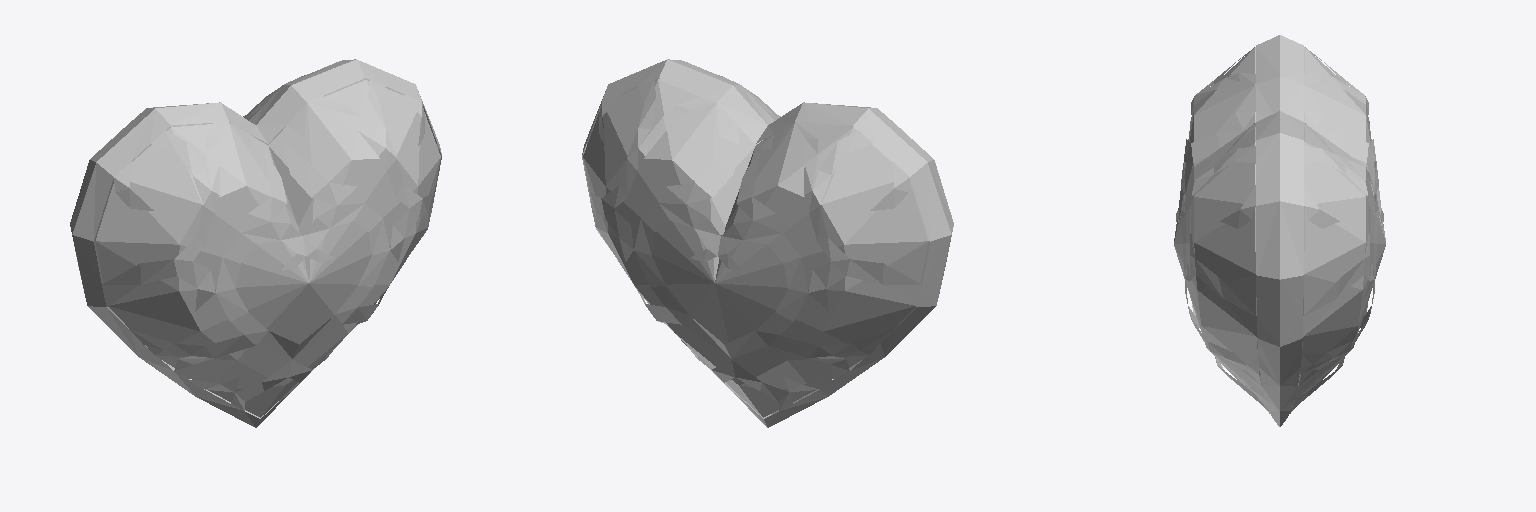
The model's file is HeartContainer.obj.
3 views of the same model, side by side, from view 1: azimuth 30°, elevation 25°; view 2: azimuth 150°, elevation 25°; view 3: azimuth 270°, elevation 25° (orthographic).
Parts seen in each view (by area): view 1: polygon0, polygon1; view 2: polygon0, polygon1; view 3: polygon1, polygon0.
Boxes of the visible parts, box(x1,y1,x2,y2) form: polygon0: box(94, 78, 440, 417); polygon1: box(70, 59, 441, 427); polygon0: box(583, 78, 929, 417); polygon1: box(582, 59, 953, 427); polygon1: box(1176, 35, 1383, 426); polygon0: box(1174, 47, 1385, 413).
Size of the model in its own units: 73.33 by 65.6 by 36.73.